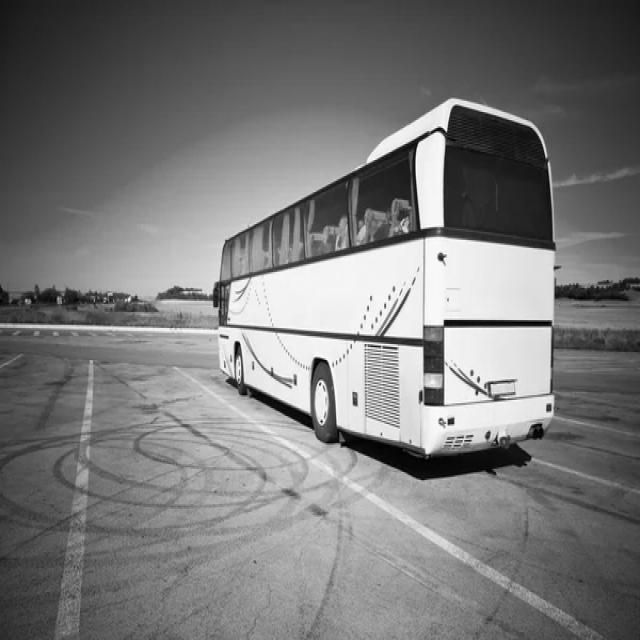Bus: (214, 99, 556, 457)
